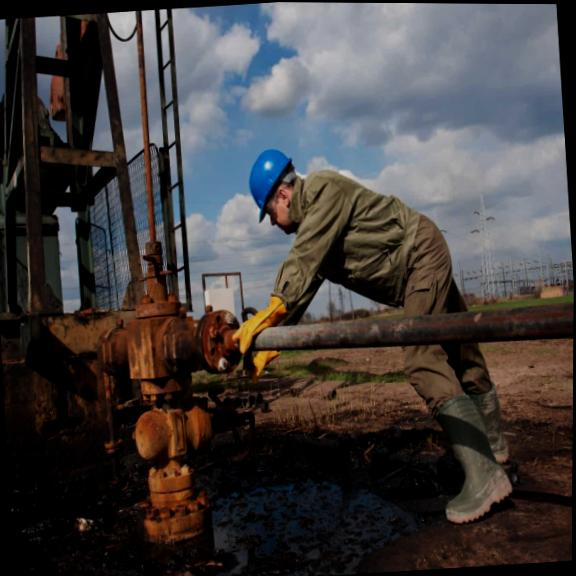no_safety_vest: (301, 153, 452, 324)
